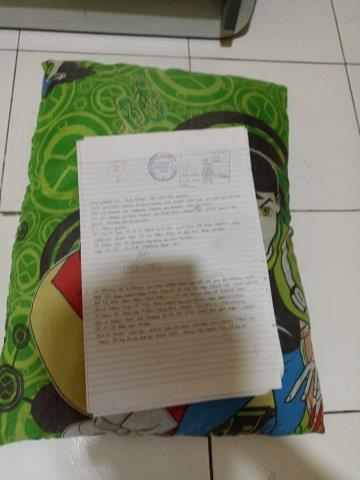kertas: (77, 126, 283, 417)
